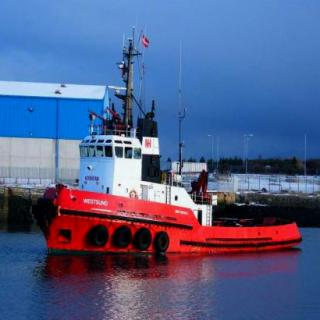Tug Boat: (29, 50, 302, 250)
